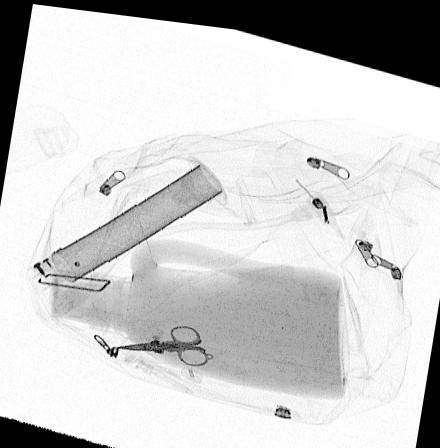Scissors: (114, 319, 215, 363)
